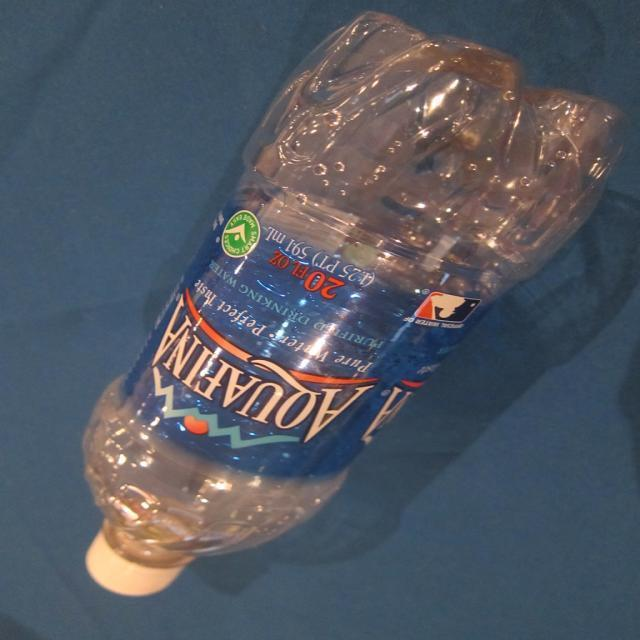plastic_bottle: (83, 10, 628, 597)
